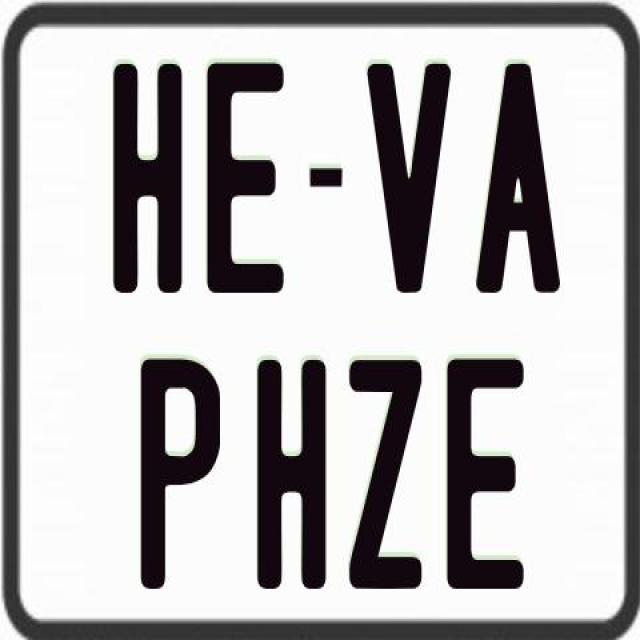A: (476, 61, 568, 293)
E: (205, 60, 284, 298), (442, 356, 522, 588)
H: (112, 62, 184, 301), (256, 355, 330, 586)
P: (137, 353, 224, 584)
V: (366, 59, 454, 293)
Z: (348, 360, 426, 597)
